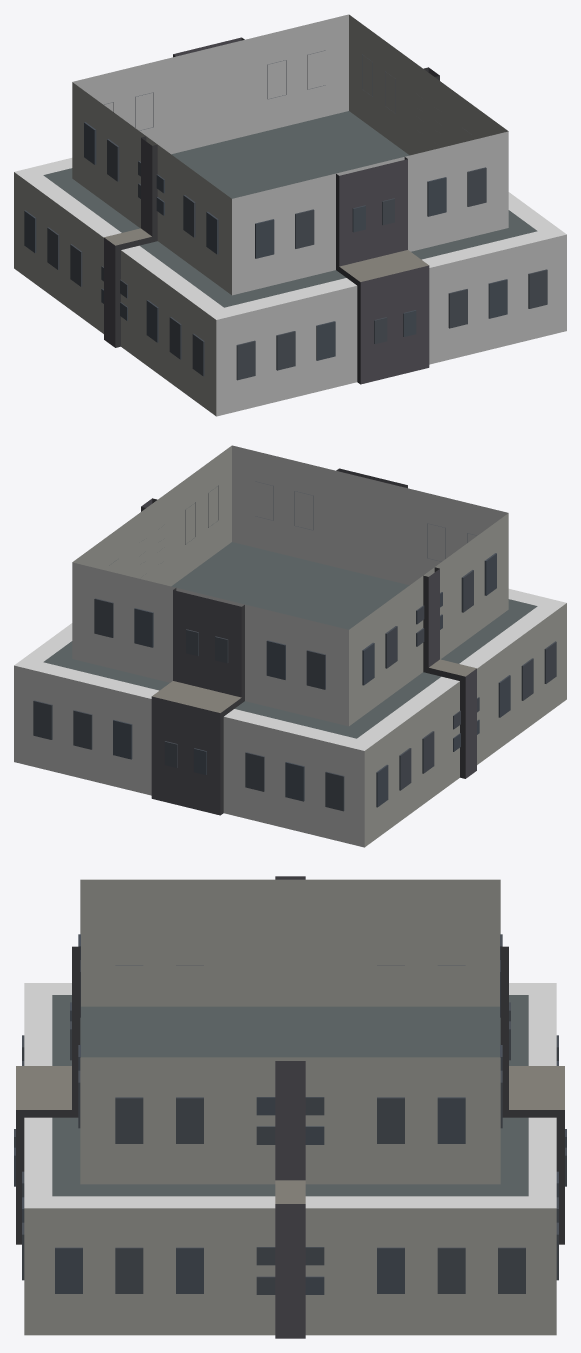
File: TB_CITY_Skysc_Q_Lower_Top_Gray.FBX
3 views of the same model, one above another, from view 1: azimuth 30°, elevation 25°; view 2: azimuth 150°, elevation 25°; view 3: azimuth 270°, elevation 25° (orthographic). The views are drawn at different scales.
Visible parts, largest first — view 1: TB_CITY_Skysc_Q_Lower_Top_Gray; view 2: TB_CITY_Skysc_Q_Lower_Top_Gray; view 3: TB_CITY_Skysc_Q_Lower_Top_Gray.
Boxes of the visible parts, left/top/right/bottom form: TB_CITY_Skysc_Q_Lower_Top_Gray: left=14, top=14, right=566, bottom=416; TB_CITY_Skysc_Q_Lower_Top_Gray: left=14, top=445, right=566, bottom=847; TB_CITY_Skysc_Q_Lower_Top_Gray: left=14, top=876, right=566, bottom=1338.
Bounding box in the file's own units: 19.6 × 10 × 19.73.
